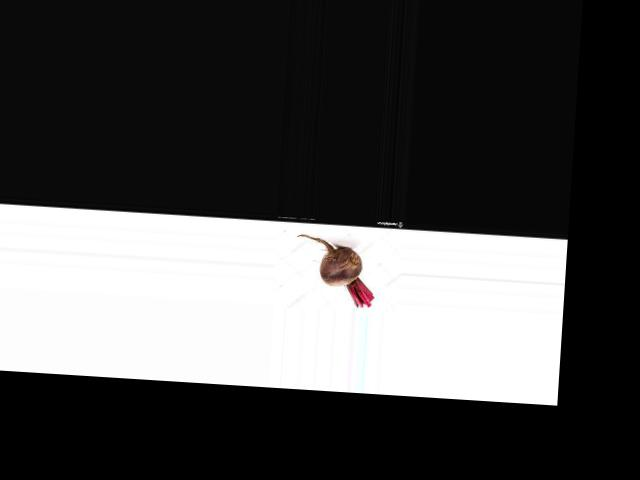beet: (292, 234, 376, 307)
